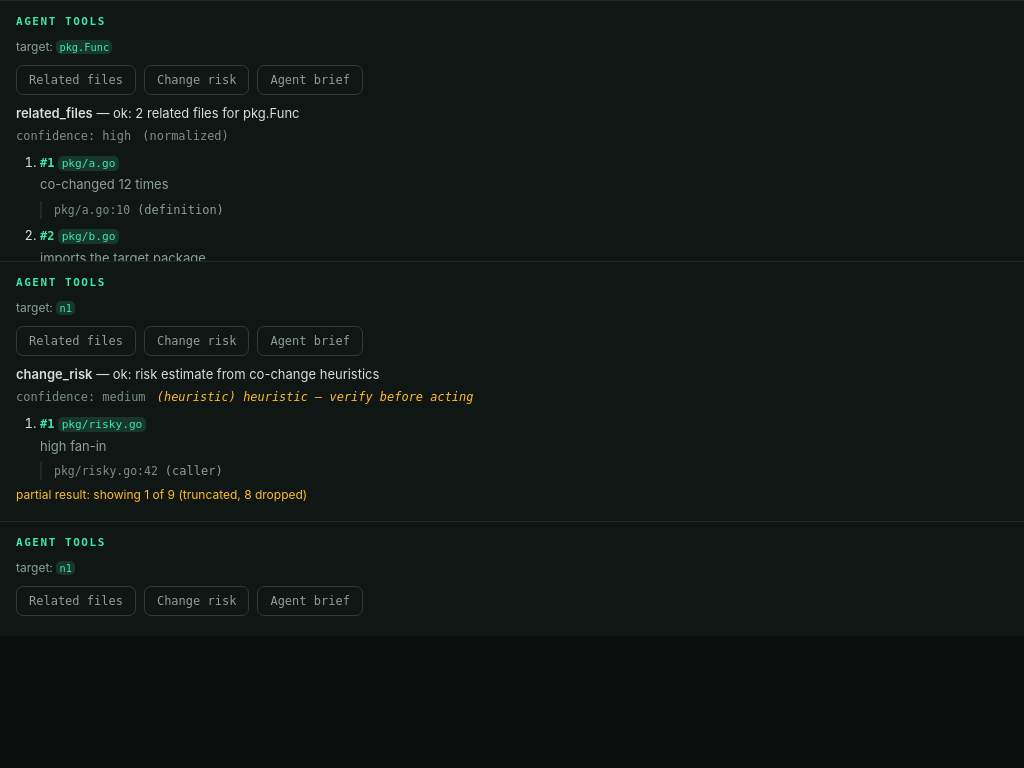
Test: AgentToolsPanel › typed unavailable → clear unavailable state, not blank UI
Click the 3rd button "Related files" at (76, 601), box [16,586,136,616]
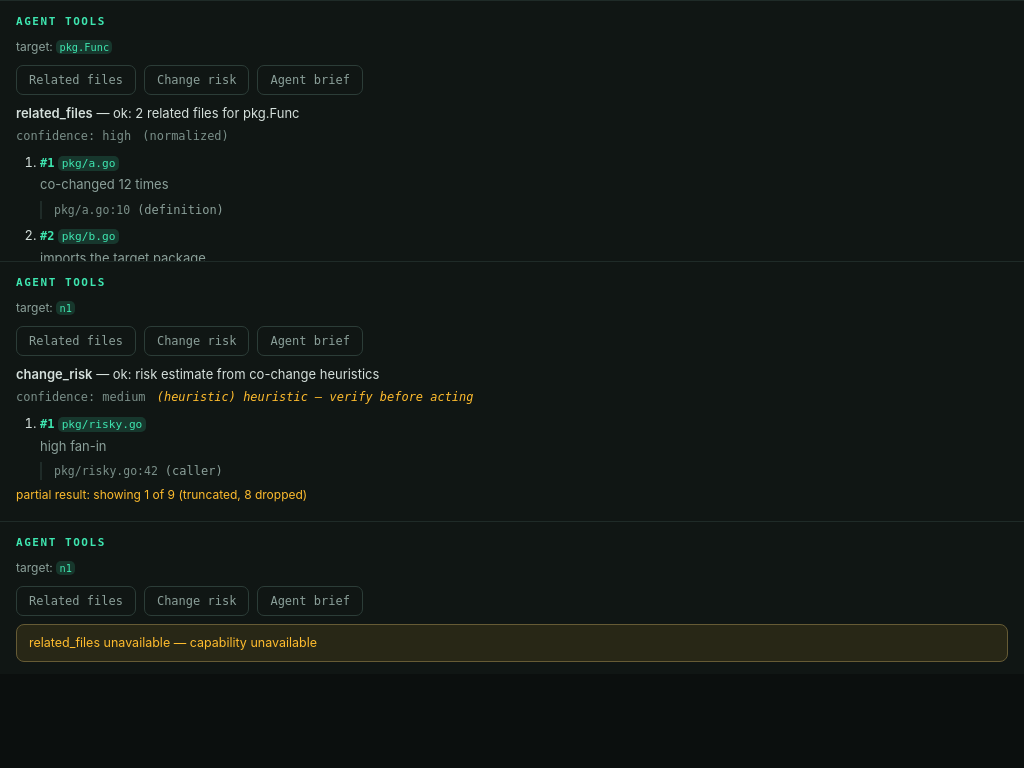
Now the text with test id "tool-unavailable" reads "related_files unavailable — capability unavailable", box [16,624,1008,662]
